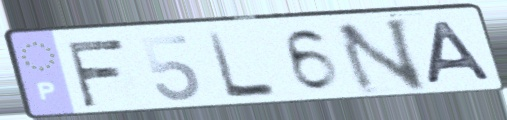5: (138, 33, 204, 104)
6: (280, 26, 343, 94)
A: (424, 18, 497, 88)
F: (61, 36, 128, 110)
L: (203, 29, 281, 101)
N: (331, 15, 431, 98)
